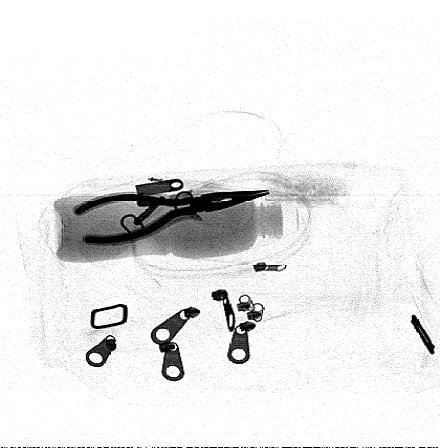Pliers: (69, 188, 274, 248)
